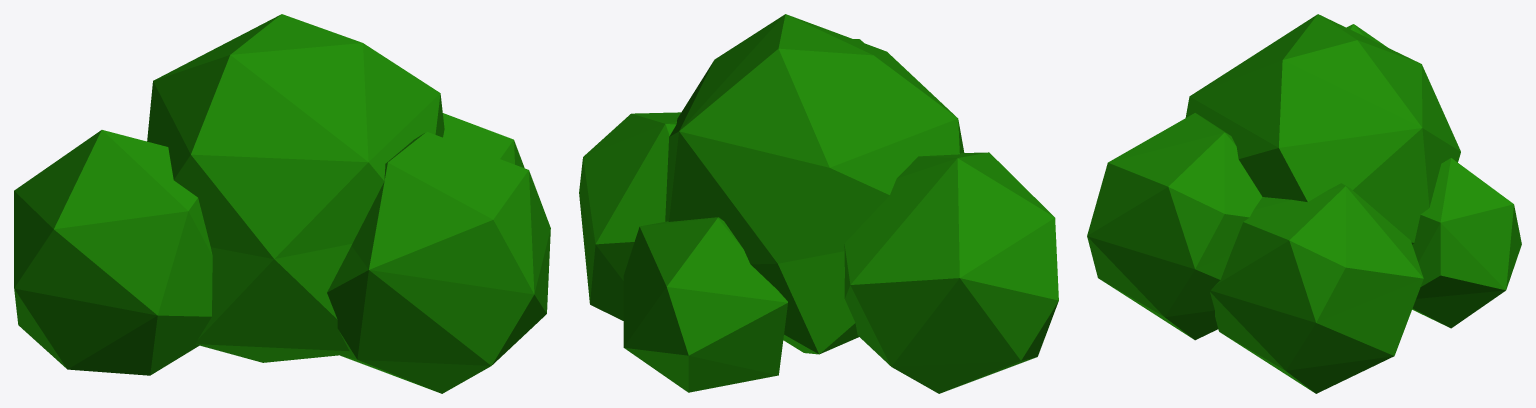
The model's file is bush_3.fbx.
The picture shows the model from 3 angles, left to right: view 1: azimuth 30°, elevation 25°; view 2: azimuth 150°, elevation 25°; view 3: azimuth 270°, elevation 25°; orthographic projection. The views are drawn at different scales.
Visible parts, largest first — view 1: bush_3; view 2: bush_3; view 3: bush_3.
Boxes of the visible parts, <box> form: bush_3: <box>14,14,550,393</box>; bush_3: <box>579,14,1058,393</box>; bush_3: <box>1087,14,1521,393</box>.
Size of the model in its own units: 182 by 118 by 160.
